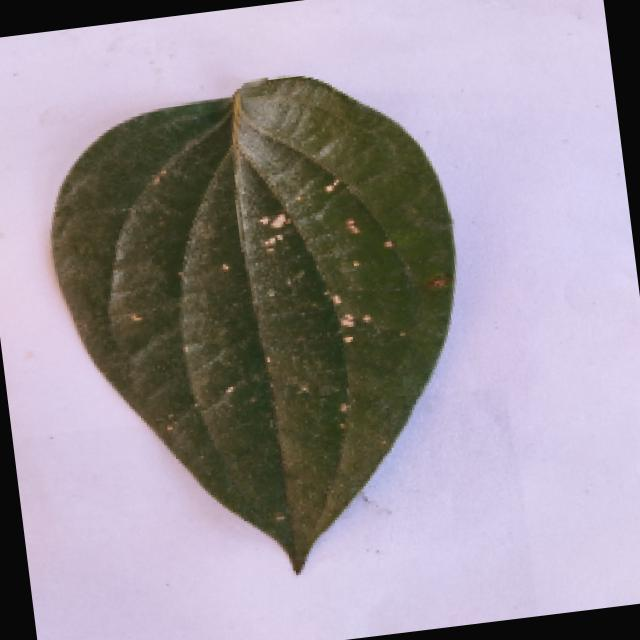pollu-disease: (14, 56, 501, 594)
